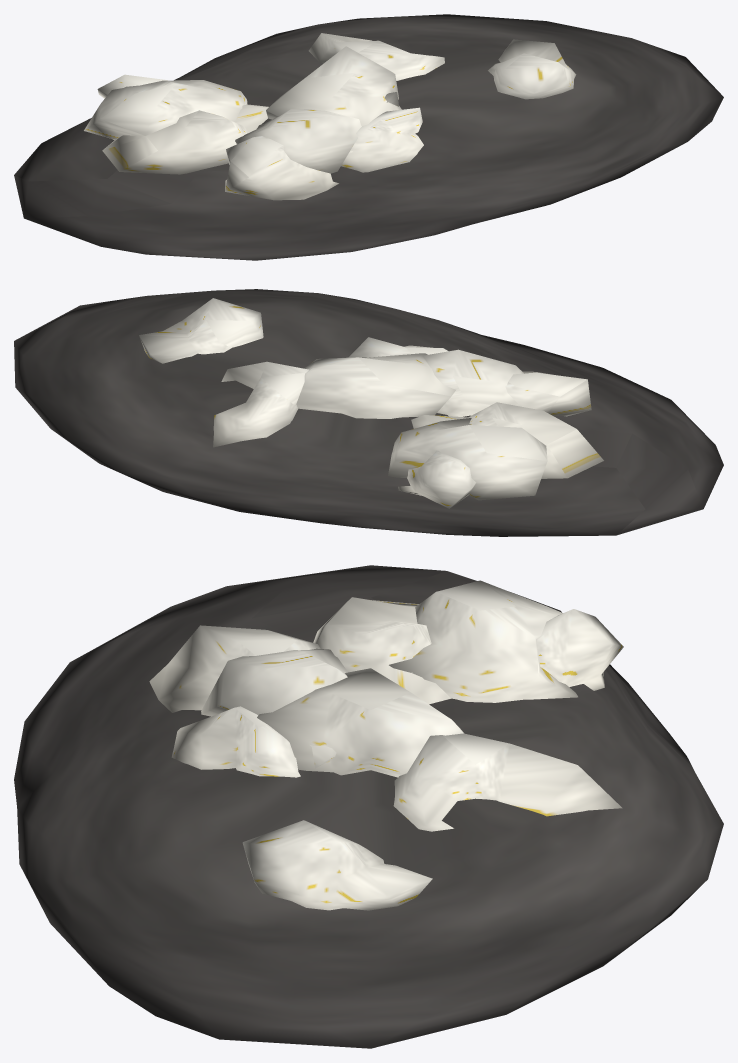
File: saltcrust.glb
3 views of the same model, one above another, from view 1: azimuth 30°, elevation 25°; view 2: azimuth 150°, elevation 25°; view 3: azimuth 270°, elevation 25° (orthographic). The views are drawn at different scales.
Parts seen in each view (by area): view 1: saltcrust; view 2: saltcrust; view 3: saltcrust.
Part boxes in pixels (box(x1,y1,x2,y2)): saltcrust: box(14, 14, 723, 260); saltcrust: box(14, 289, 723, 536); saltcrust: box(14, 565, 723, 1048).
Size of the model in its own units: 0.5955 by 0.0584 by 0.3696.
Materials: 1 (1 with a texture image).
